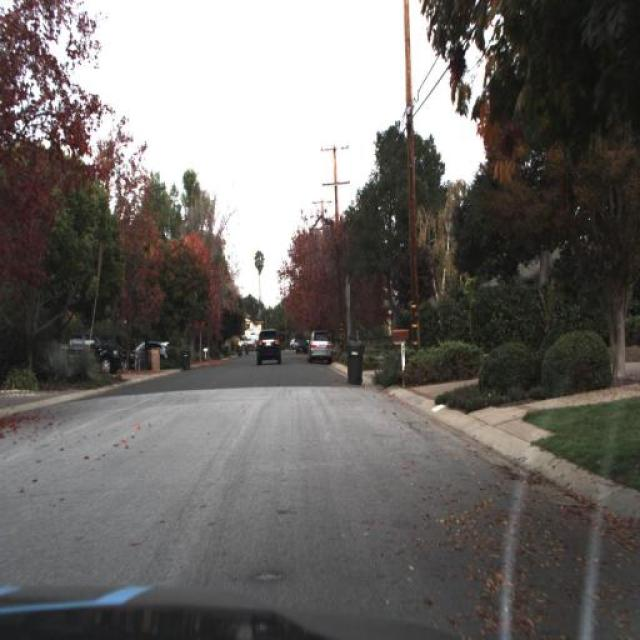car: (63, 328, 125, 383), (251, 324, 284, 371), (305, 329, 333, 365), (132, 338, 166, 364)
